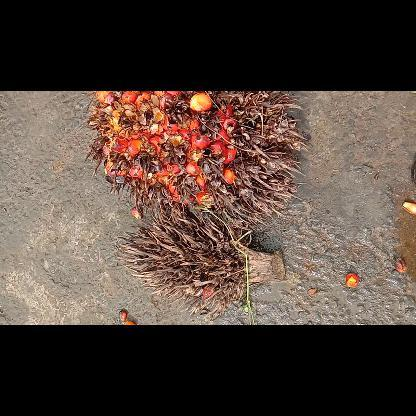Janjang kosong: (118, 204, 284, 318)
Terlalu masak: (84, 90, 308, 224)
